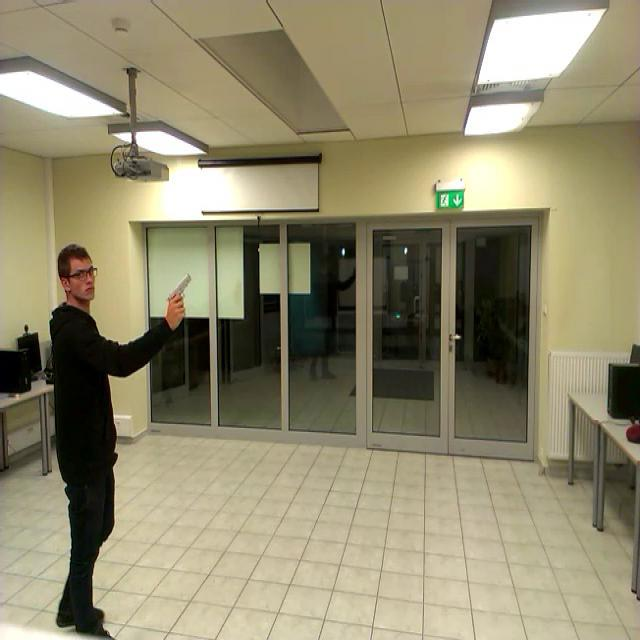Gun: (166, 272, 190, 308)
